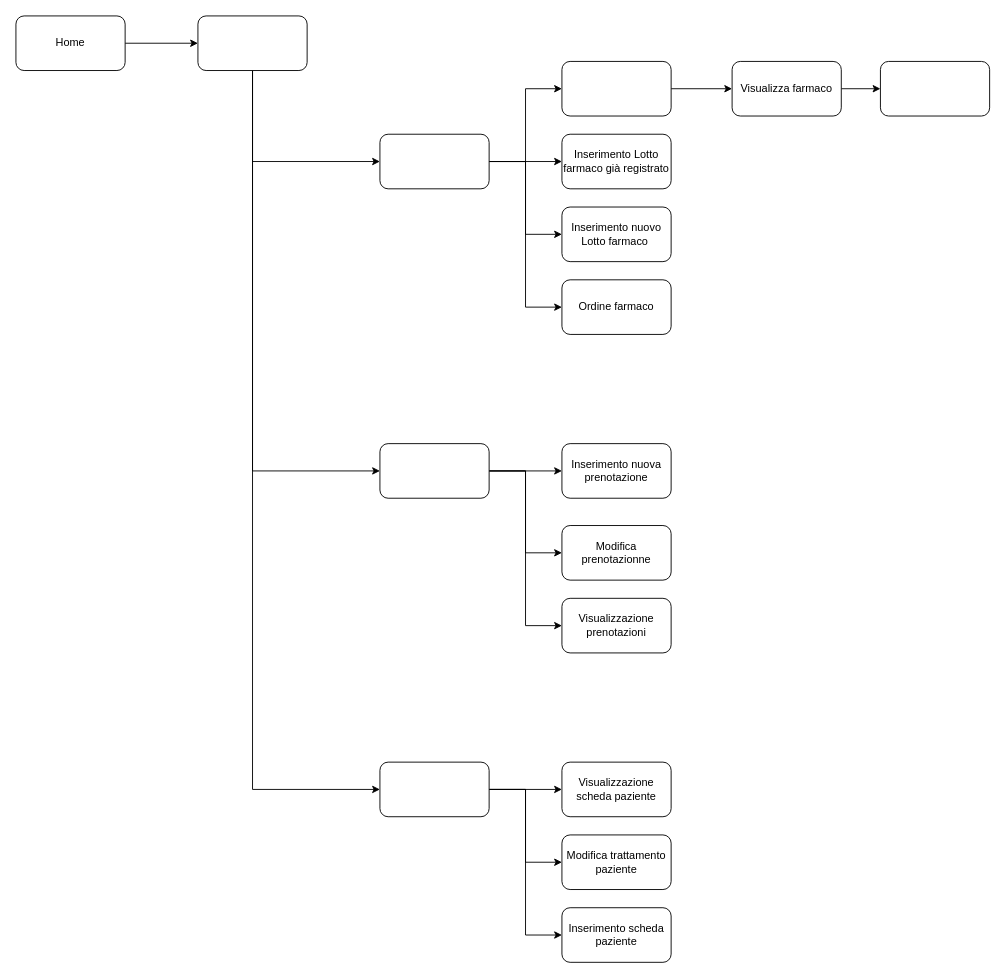
Image size: 1006x978. Some labels were removed from this diagram. The centre of each missing label's shape, as x and y in pixels:
Farmacia: point 434,161
Login: point 252,43
Modifica farmaco: point 935,88
Paziente: point 434,789
Prenotazione: point 434,470
Visualizzazione farmaci in magazzino: point 616,88
